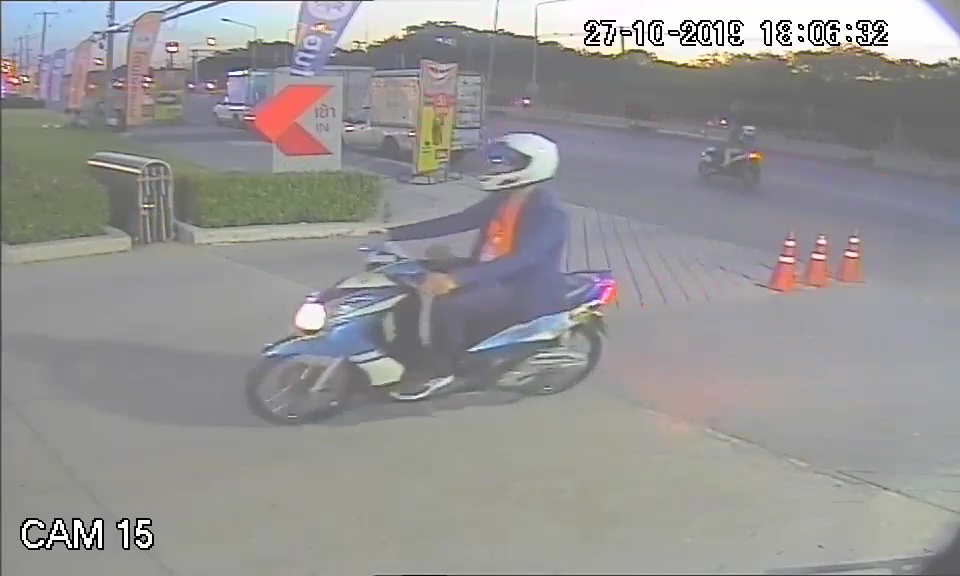motorcycle: (244, 240, 615, 425)
